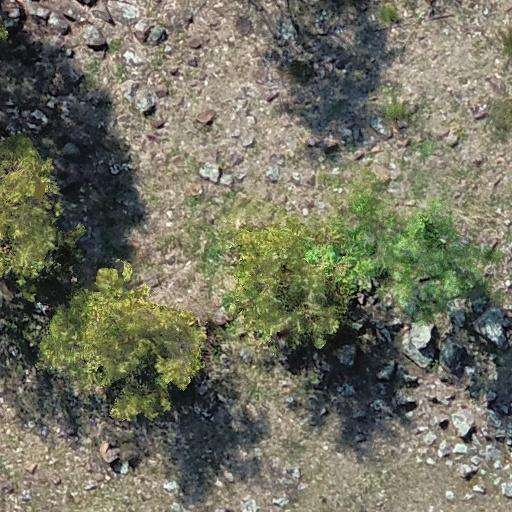stone: (318, 132, 354, 156), (136, 90, 156, 120), (198, 164, 220, 185), (151, 30, 175, 48), (202, 108, 218, 126)
